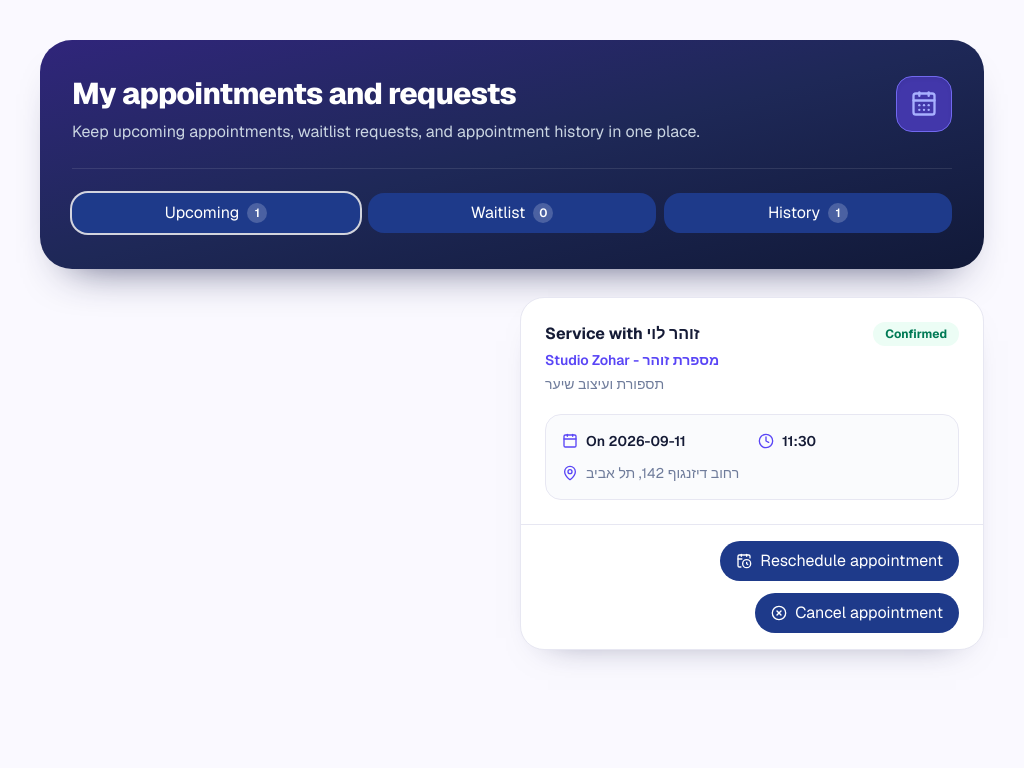
Test: appointments panel › shows the empty state on a tab with no rows, and does not affect the other tabs
This screenshot has width=1024, height=768.
Click the tab "Waitlist 0" at (512, 213), box x1=368 y1=193 x2=656 y2=233
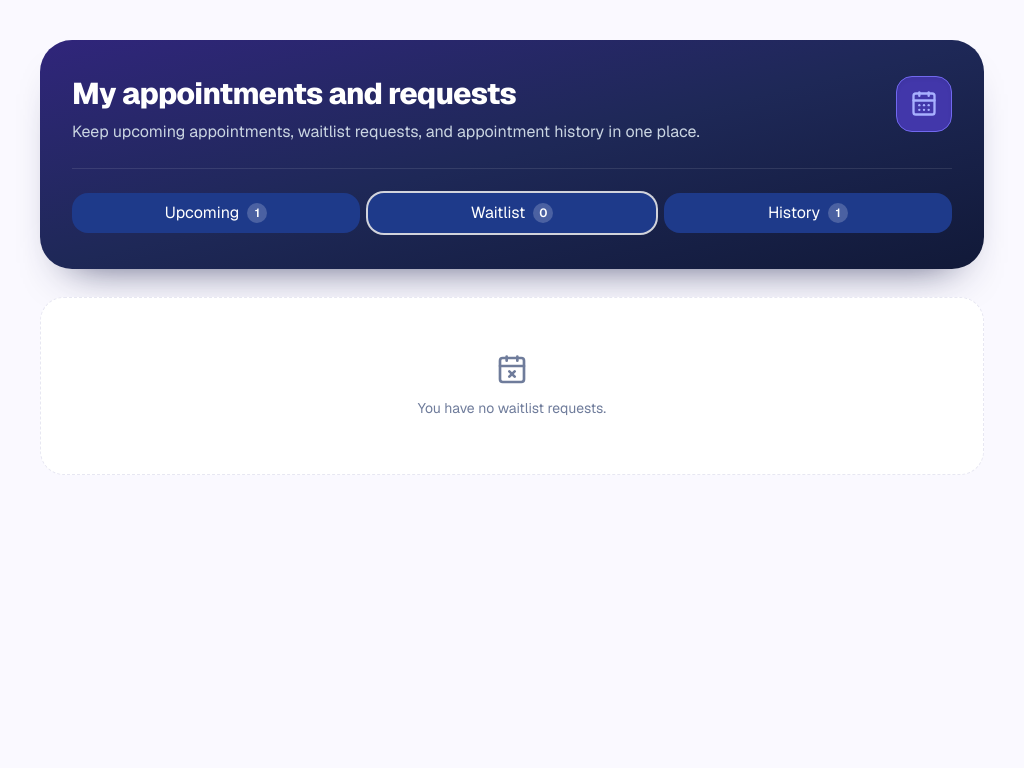
expect the text "You have no waitlist requests." is shown: met, box x1=418 y1=398 x2=606 y2=418
